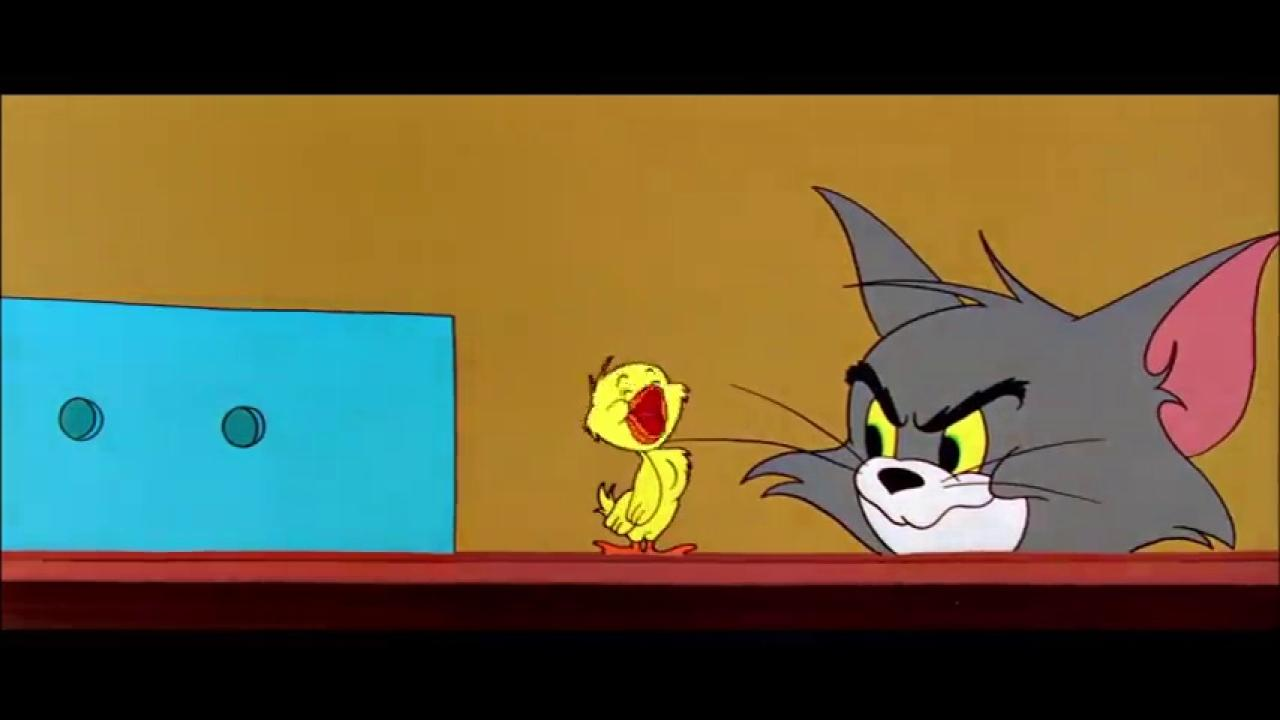Tom: (739, 183, 1280, 553)
